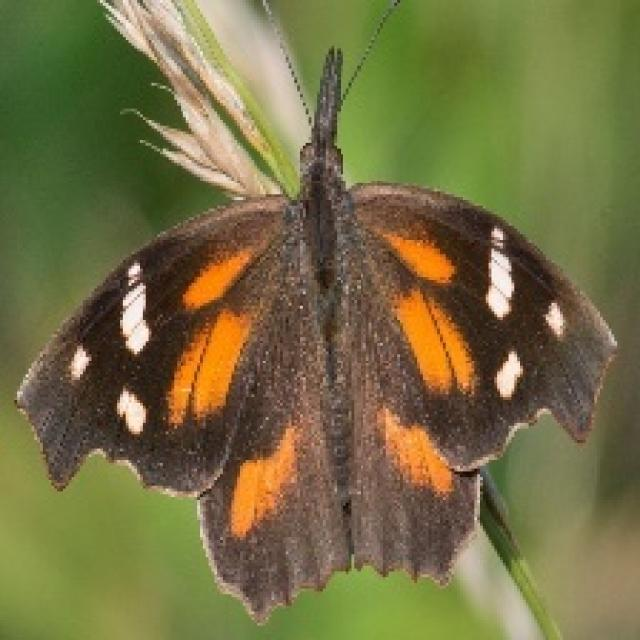butterfly: (12, 0, 617, 626)
